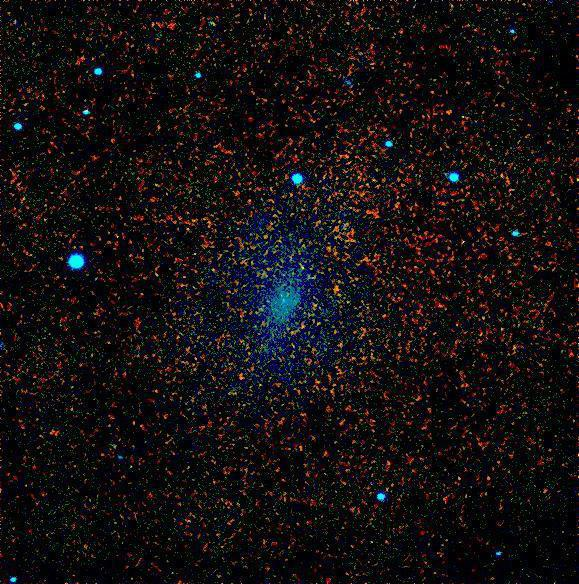star: (321, 275, 351, 305)
